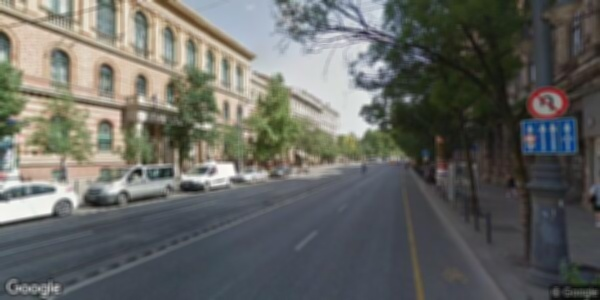a_no_turn: (526, 87, 569, 120)
